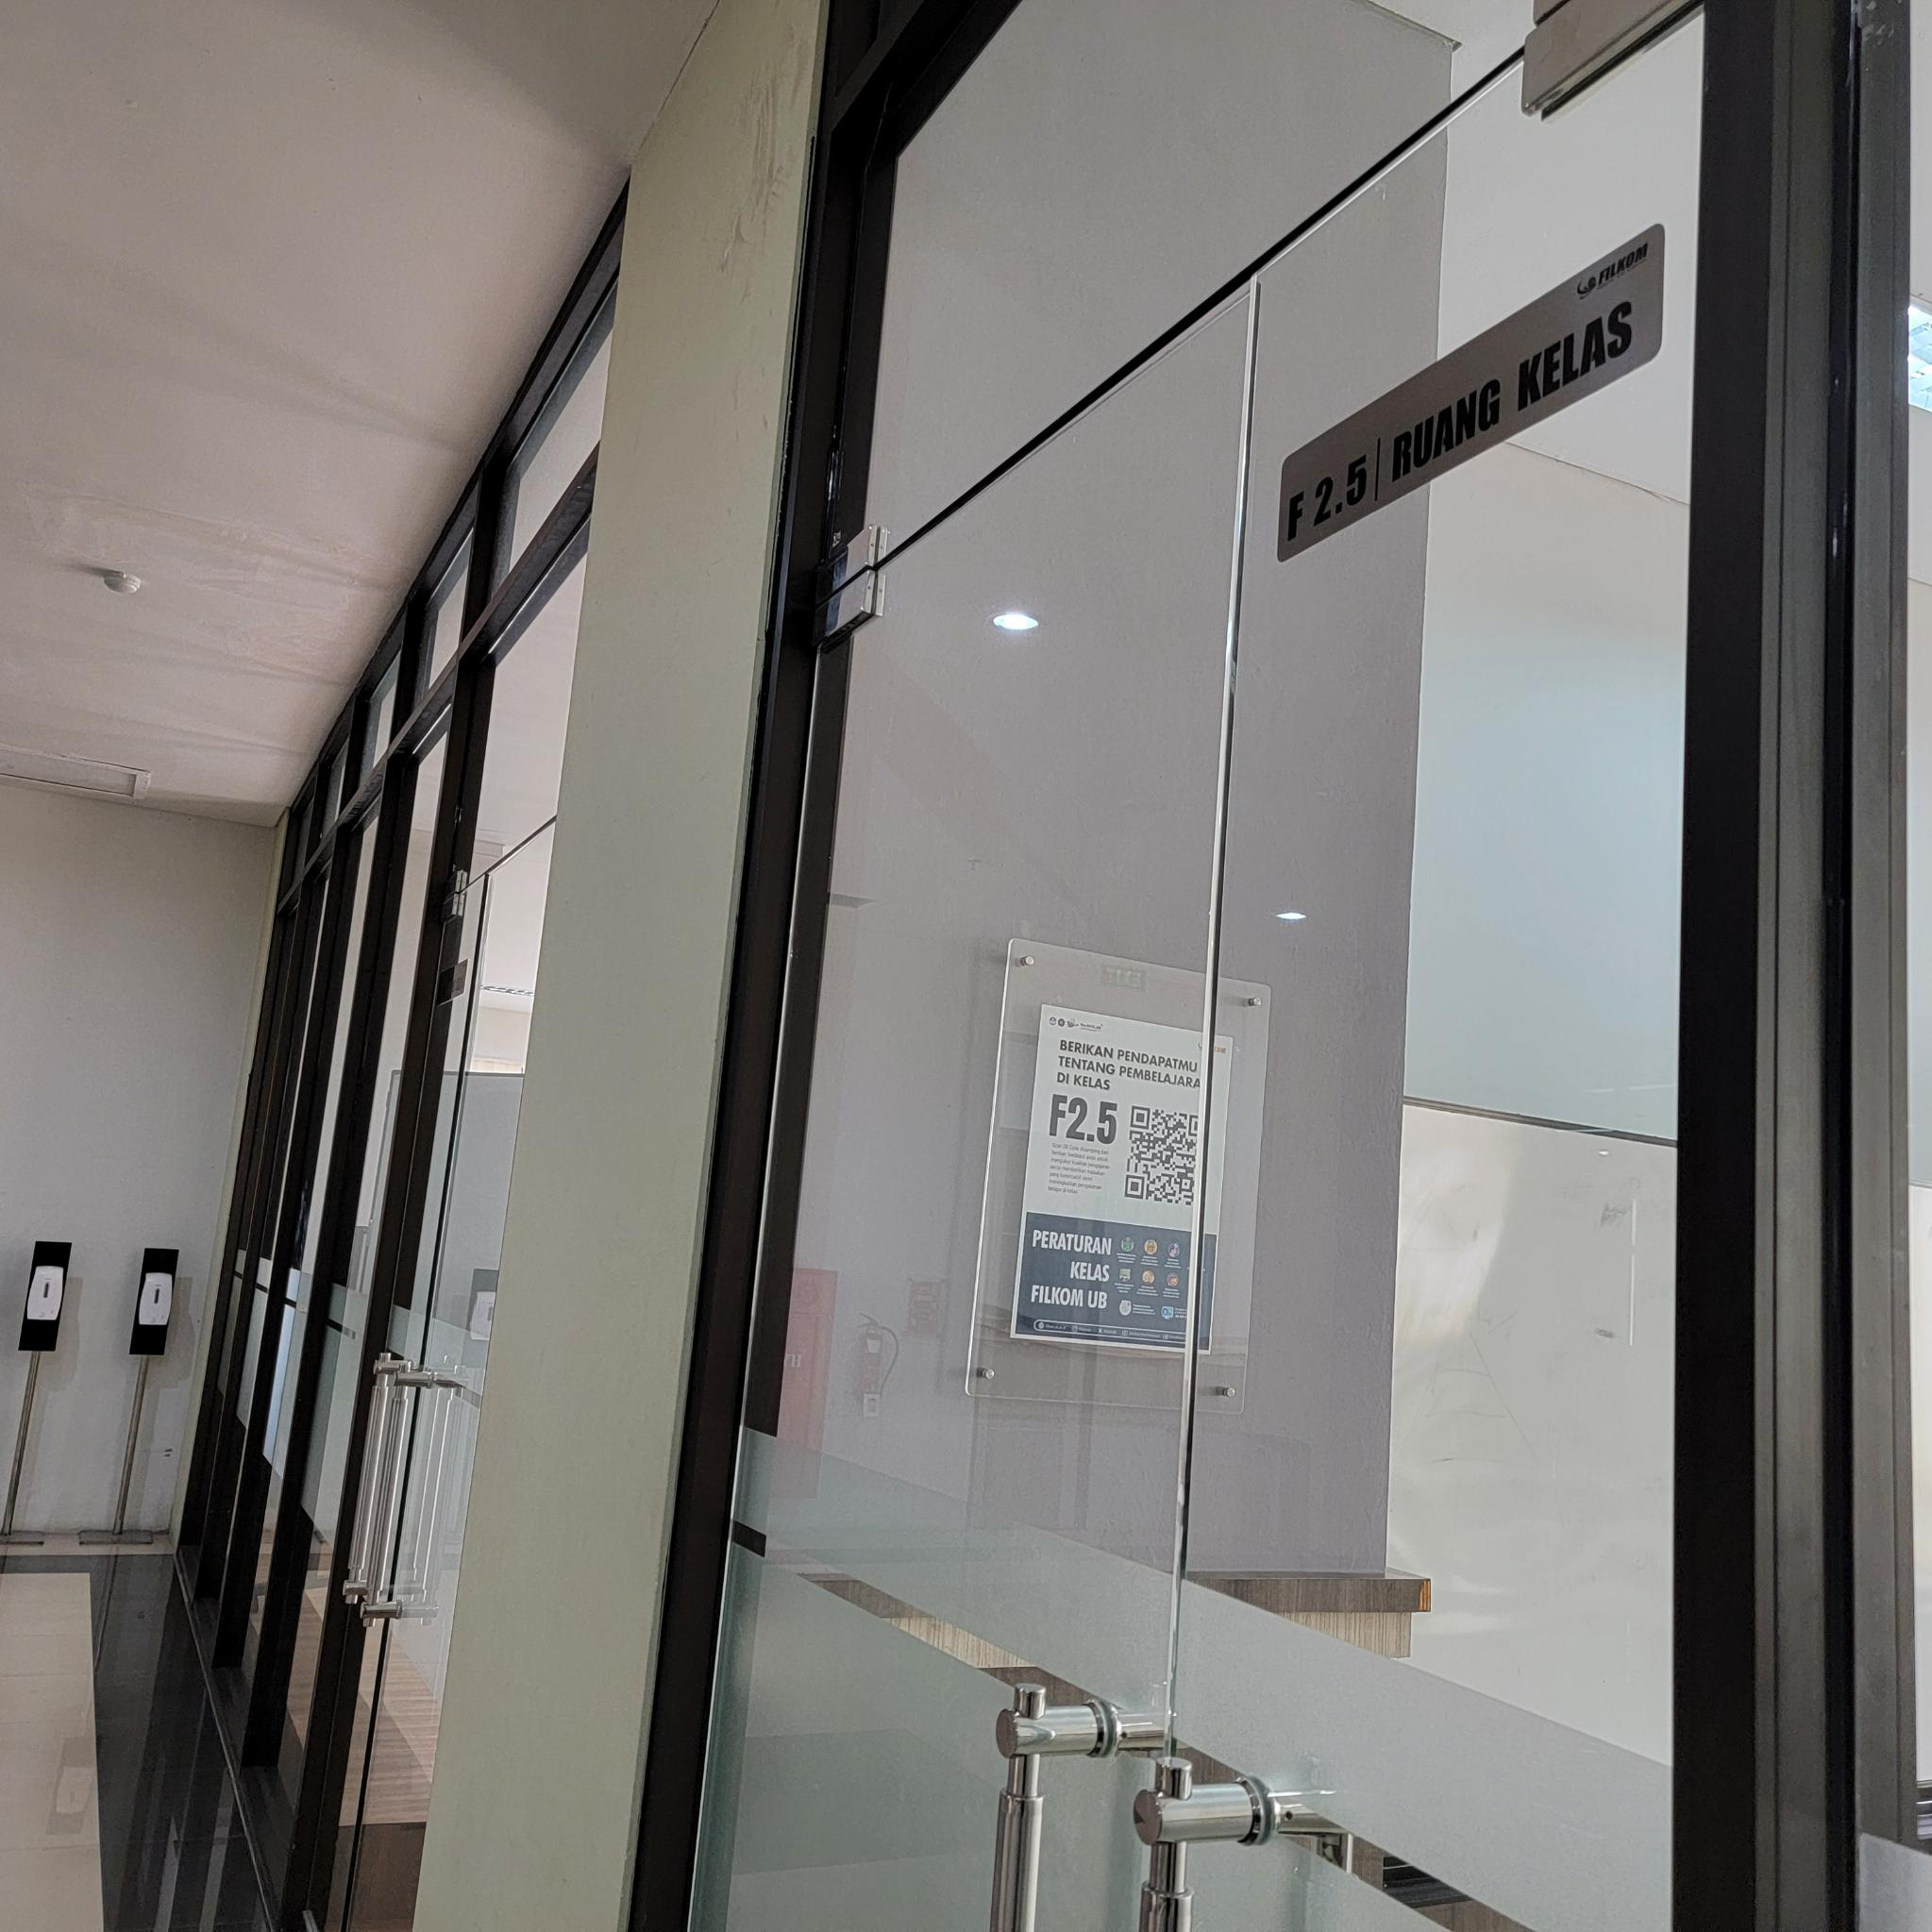plate: (1274, 218, 1670, 559)
